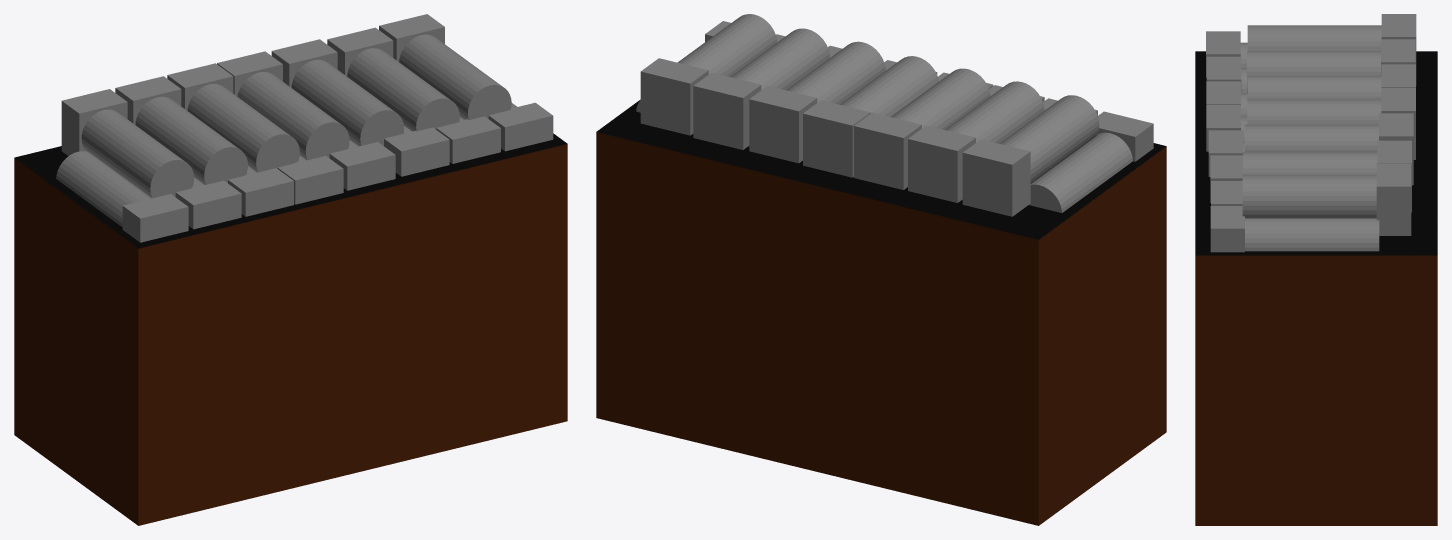
Rendered from bolt_proto_box.fbx.
The picture shows the model from 3 angles, left to right: view 1: azimuth 30°, elevation 25°; view 2: azimuth 150°, elevation 25°; view 3: azimuth 270°, elevation 25°; orthographic projection. The views are drawn at different scales.
Parts seen in each view (by area): view 1: root, node_id294 (×2), node_id291 (×2), node_id282 (×2), node_id279 (×2), node_id288 (×2), node_id276 (×2), node_id285 (×2), node_id82 (×2), node_id42, node_id72, node_id6 (+4 smaller); view 2: root, node_id294 (×2), node_id279 (×2), node_id291 (×2), node_id282 (×2), node_id276 (×2), node_id288 (×2), node_id285 (×2), node_id82 (×2); view 3: root, node_id276 (×2), node_id105 (×2), node_id282 (×2), node_id285 (×2), node_id294 (×2), node_id291 (×2), node_id288 (×2), node_id279 (×2), node_id6, node_id52, node_id72 (+4 smaller).
Boxes of the visible parts, x1,y1,x2,y2 form: root: (14,133,567,525); node_id294 (×2): (61,89,193,198); node_id291 (×2): (115,76,247,184); node_id282 (×2): (271,39,403,146); node_id279 (×2): (327,27,459,131); node_id288 (×2): (167,63,299,172); node_id276 (×2): (379,14,511,119); node_id285 (×2): (217,51,349,160); node_id82 (×2): (56,151,188,242); node_id42: (384,127,449,176); node_id72: (175,180,241,229); node_id6: (329,142,395,190); root: (596,99,1166,525); node_id294 (×2): (962,95,1099,216); node_id279 (×2): (693,28,829,149); node_id291 (×2): (908,81,1044,202); node_id282 (×2): (749,41,885,163); node_id276 (×2): (640,14,777,135); node_id288 (×2): (854,68,990,189); node_id285 (×2): (803,56,938,177); node_id82 (×2): (1029,111,1153,212); root: (1195,51,1437,525); node_id276 (×2): (1242,163,1411,235); node_id105 (×2): (1210,206,1379,252); node_id282 (×2): (1244,113,1413,185); node_id285 (×2): (1247,88,1415,159); node_id294 (×2): (1247,14,1416,85); node_id291 (×2): (1247,39,1415,93); node_id288 (×2): (1247,64,1415,99); node_id279 (×2): (1243,140,1411,212); node_id6: (1208,130,1243,176); node_id52: (1206,105,1240,151); node_id72: (1206,56,1241,92).
Bounding box in the file's own units: 4.56 × 3.38 × 2.28.
Materials: 3 (1 with a texture image).
